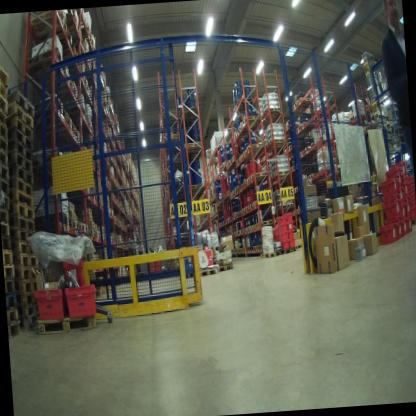pallet: (33, 308, 102, 344), (25, 47, 69, 87), (33, 88, 69, 135), (45, 72, 82, 108), (43, 125, 85, 156), (31, 28, 75, 57), (28, 11, 68, 42), (69, 16, 100, 56), (38, 113, 77, 144), (6, 111, 34, 142), (34, 213, 73, 234), (6, 86, 35, 114), (7, 102, 35, 130), (275, 183, 300, 213), (9, 127, 34, 153), (9, 163, 36, 187), (9, 138, 33, 163), (9, 151, 34, 174), (11, 200, 37, 222), (10, 188, 36, 209), (12, 173, 33, 199), (73, 69, 92, 97), (13, 252, 41, 270), (243, 138, 265, 160), (14, 240, 42, 257), (12, 226, 41, 242), (17, 277, 43, 294), (11, 215, 38, 231), (0, 50, 11, 89), (67, 97, 86, 119), (65, 53, 83, 75), (83, 110, 97, 137), (19, 292, 44, 307), (0, 64, 10, 101), (262, 105, 288, 119), (0, 158, 12, 186), (185, 179, 206, 195), (184, 140, 205, 156), (0, 125, 10, 157), (296, 92, 316, 108), (16, 268, 42, 280), (0, 139, 10, 169), (0, 110, 9, 142), (255, 217, 277, 230), (8, 322, 23, 341), (249, 168, 268, 183), (241, 114, 261, 128), (258, 249, 283, 260), (215, 262, 236, 275), (292, 102, 311, 116), (0, 100, 9, 129), (199, 265, 219, 278), (21, 305, 41, 318), (0, 191, 12, 212), (4, 276, 17, 295), (0, 174, 11, 196), (0, 82, 8, 112), (6, 291, 18, 311), (273, 167, 293, 179), (7, 308, 21, 325), (181, 269, 199, 282), (280, 245, 298, 258), (267, 139, 287, 150), (236, 98, 254, 110), (231, 103, 250, 114), (94, 282, 107, 298), (300, 120, 316, 133), (68, 215, 80, 232), (1, 209, 12, 227), (77, 220, 89, 235), (86, 223, 96, 241), (4, 264, 15, 280), (307, 171, 323, 182), (4, 249, 13, 268), (21, 314, 32, 327), (2, 221, 12, 235), (4, 233, 13, 248), (304, 143, 315, 155), (93, 228, 102, 241), (295, 205, 304, 216), (283, 121, 291, 132), (252, 199, 260, 210), (235, 125, 242, 136), (241, 149, 248, 160), (244, 202, 251, 213), (231, 153, 237, 164), (222, 160, 228, 171), (238, 121, 243, 134), (256, 242, 264, 250), (238, 153, 243, 165), (224, 217, 230, 227), (290, 209, 296, 219), (298, 150, 305, 158), (287, 143, 294, 151), (226, 159, 231, 170), (295, 126, 301, 135), (236, 157, 241, 167), (233, 130, 237, 142), (283, 147, 289, 155), (292, 163, 298, 171), (245, 246, 251, 254), (248, 202, 253, 211), (241, 207, 246, 216), (252, 221, 257, 230), (225, 189, 231, 196), (229, 156, 233, 166), (245, 176, 249, 186), (237, 229, 242, 237), (242, 180, 246, 189), (218, 166, 224, 172), (235, 188, 240, 195), (232, 190, 237, 197), (232, 210, 237, 217), (233, 212, 238, 219), (253, 244, 258, 251), (237, 210, 242, 216), (229, 214, 234, 220), (218, 163, 223, 169), (235, 184, 239, 191), (243, 228, 247, 235), (240, 228, 244, 235), (235, 229, 239, 236), (240, 182, 243, 190), (249, 224, 253, 230), (231, 231, 235, 237), (251, 245, 255, 251), (243, 246, 247, 252), (239, 247, 243, 253), (237, 245, 240, 252), (233, 249, 237, 254), (247, 226, 250, 232), (233, 188, 236, 193), (230, 190, 233, 195), (230, 195, 234, 198)
small_load_carrier: (60, 279, 102, 321), (31, 282, 68, 323), (60, 252, 88, 287), (379, 195, 403, 224), (383, 170, 404, 194), (379, 221, 399, 246), (380, 177, 402, 199), (400, 220, 410, 241), (393, 158, 409, 171), (400, 202, 408, 223), (279, 230, 290, 243), (406, 198, 413, 218), (399, 187, 407, 204), (403, 181, 411, 198), (287, 239, 298, 250), (276, 212, 286, 224), (407, 218, 415, 232), (281, 241, 291, 252), (395, 223, 404, 235), (277, 222, 289, 231), (287, 220, 294, 234), (289, 229, 297, 239), (273, 234, 279, 245), (286, 211, 292, 222), (412, 207, 416, 221), (272, 228, 279, 235), (406, 175, 415, 180), (411, 193, 416, 201), (411, 201, 416, 207), (410, 184, 415, 189), (410, 179, 415, 183), (411, 189, 415, 193)
